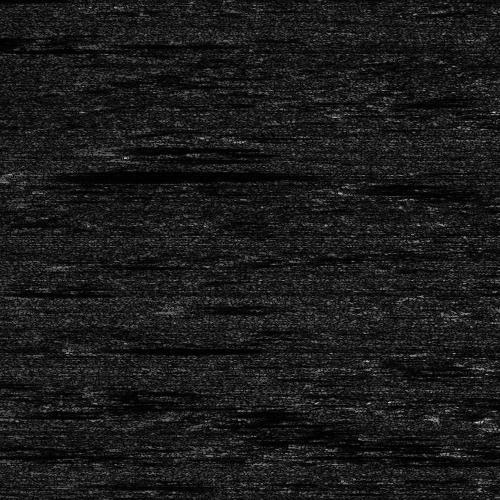object: (24, 400, 149, 411), (0, 166, 79, 183), (45, 344, 138, 353), (82, 142, 155, 151), (450, 360, 500, 373), (70, 40, 123, 45), (0, 449, 9, 460)
shadow: (37, 166, 262, 183), (87, 400, 240, 411), (0, 449, 115, 460), (119, 142, 252, 151), (92, 344, 219, 353), (97, 40, 228, 45), (146, 157, 254, 158)
